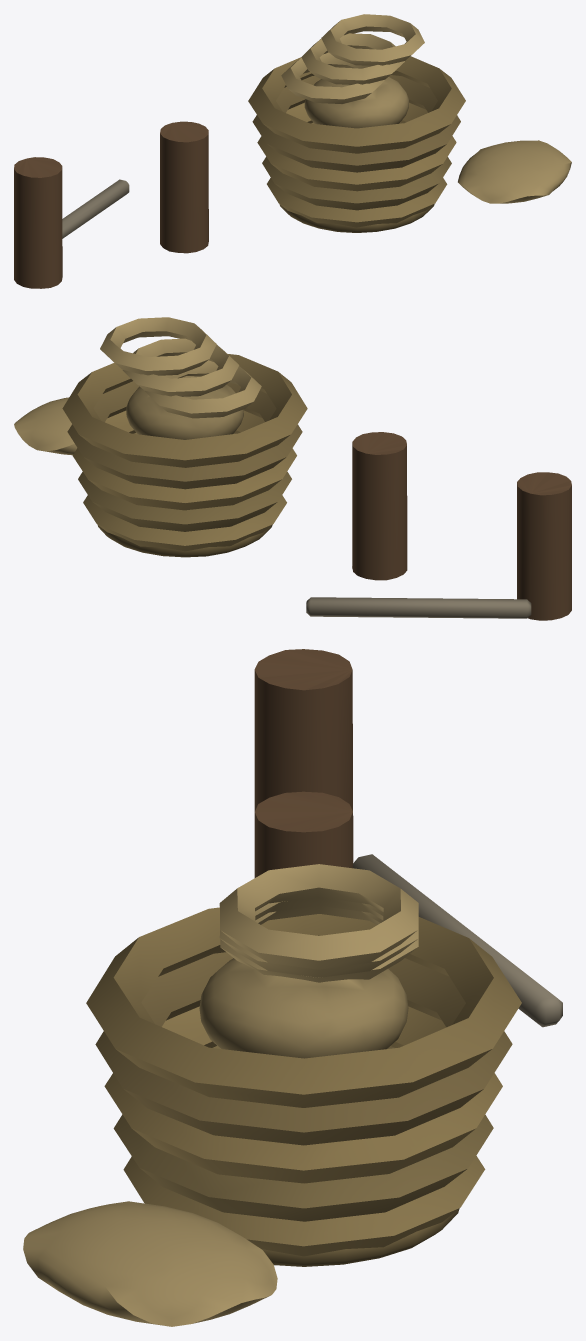
Rendered from knot_board_c.glb.
The picture shows the model from 3 angles, top to bottom: view 1: azimuth 30°, elevation 25°; view 2: azimuth 150°, elevation 25°; view 3: azimuth 270°, elevation 25°; orthographic projection. The views are drawn at different scales.
Parts seen in each view (by area): view 1: Surface; view 2: Surface; view 3: Surface.
Boxes of the visible parts, box(x1,y1,x2,y2) form: Surface: box(14, 14, 571, 288); Surface: box(14, 317, 571, 620); Surface: box(23, 649, 562, 1326).
Size of the model in its own units: 3.89 by 1.16 by 1.76.
